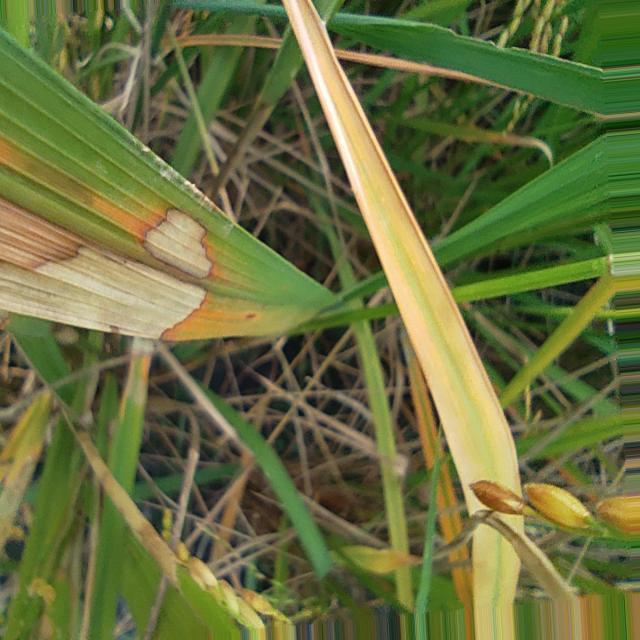Leaf_Blast: (285, 0, 521, 513), (472, 528, 520, 607)
Rice False Smut: (0, 199, 206, 338), (144, 208, 212, 278)
